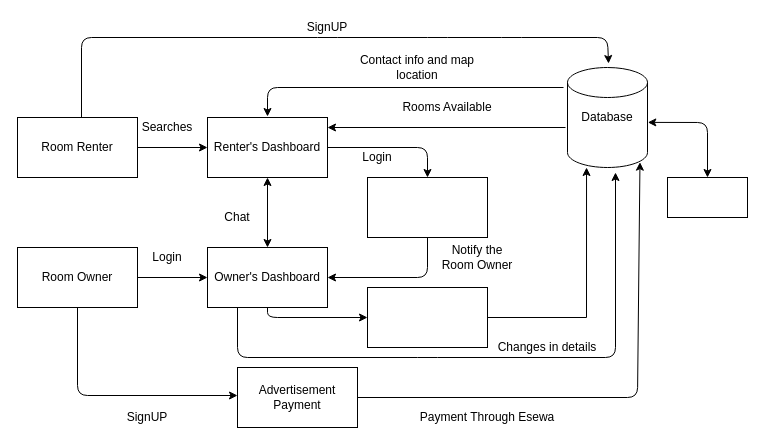
Some shapes in this 765 by 445 pixel diagram are drawn without their labels. Each missing label, with the centre of its shape:
"Admin" goes at point (707, 197).
"Approves the Renter" goes at point (427, 317).
"Choose the preferred room" goes at point (427, 207).
